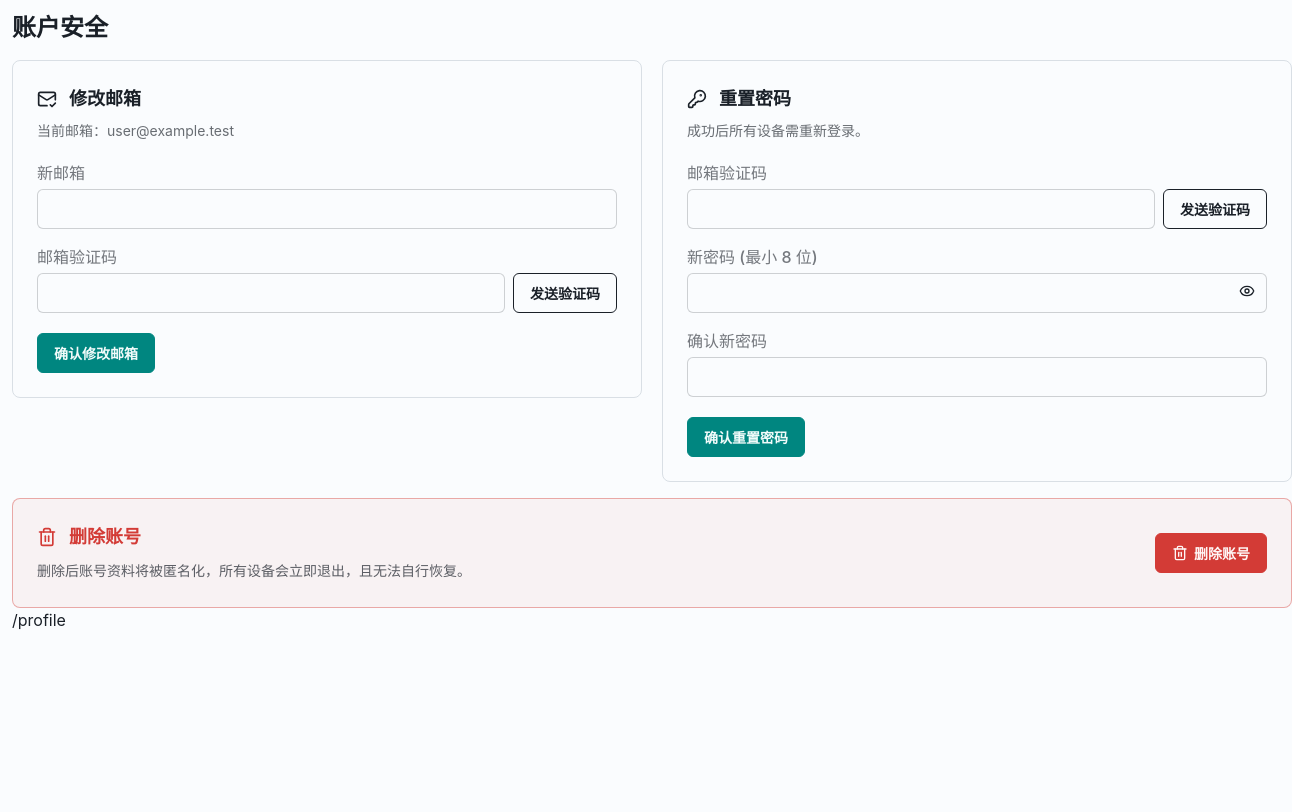
Test: AccountSecurityPanel › sends a new-email code and completes email change
The width and height of the screenshot is (1292, 812).
Type "new@example.test" into the field labelled "新邮箱" at coordinates (327, 209), box top-left (37, 189), bottom-right (617, 229)
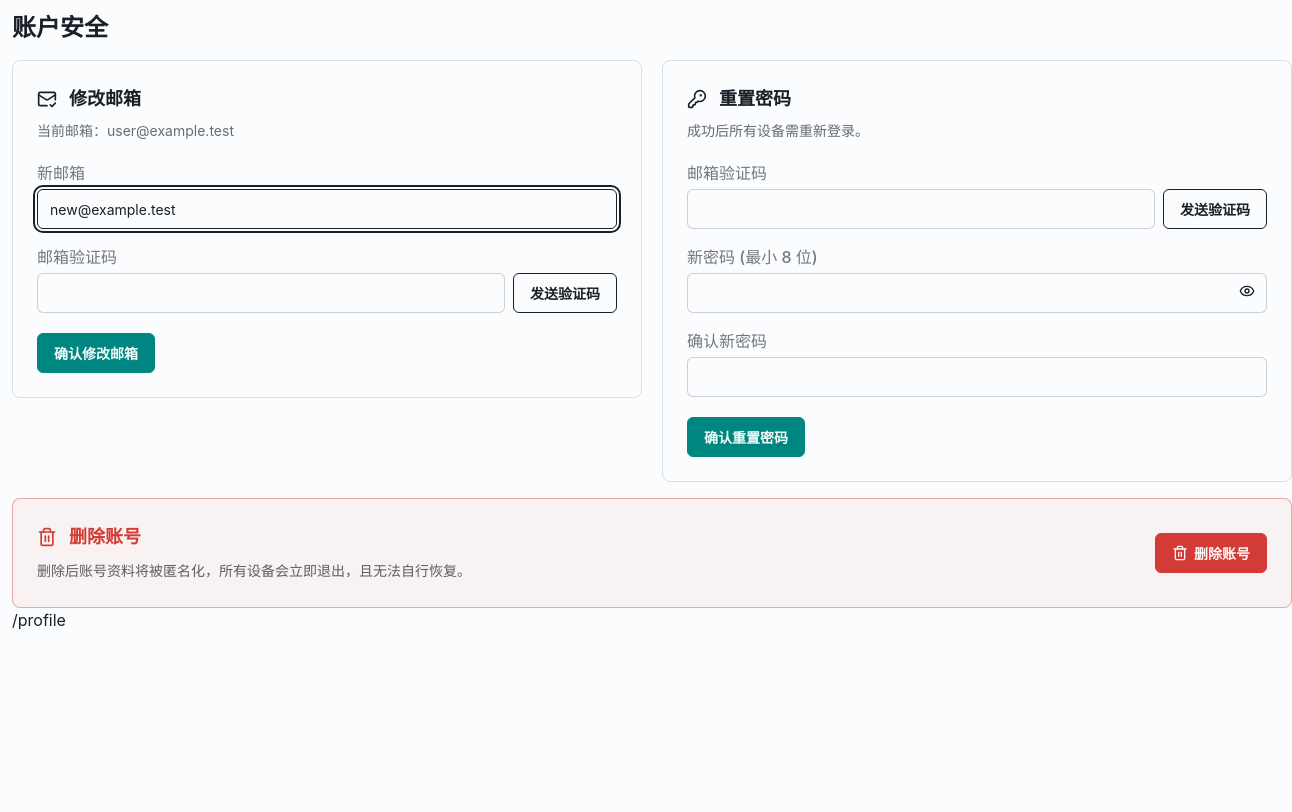
Click the 2nd button "发送验证码" at coordinates (565, 293), box top-left (513, 273), bottom-right (617, 313)
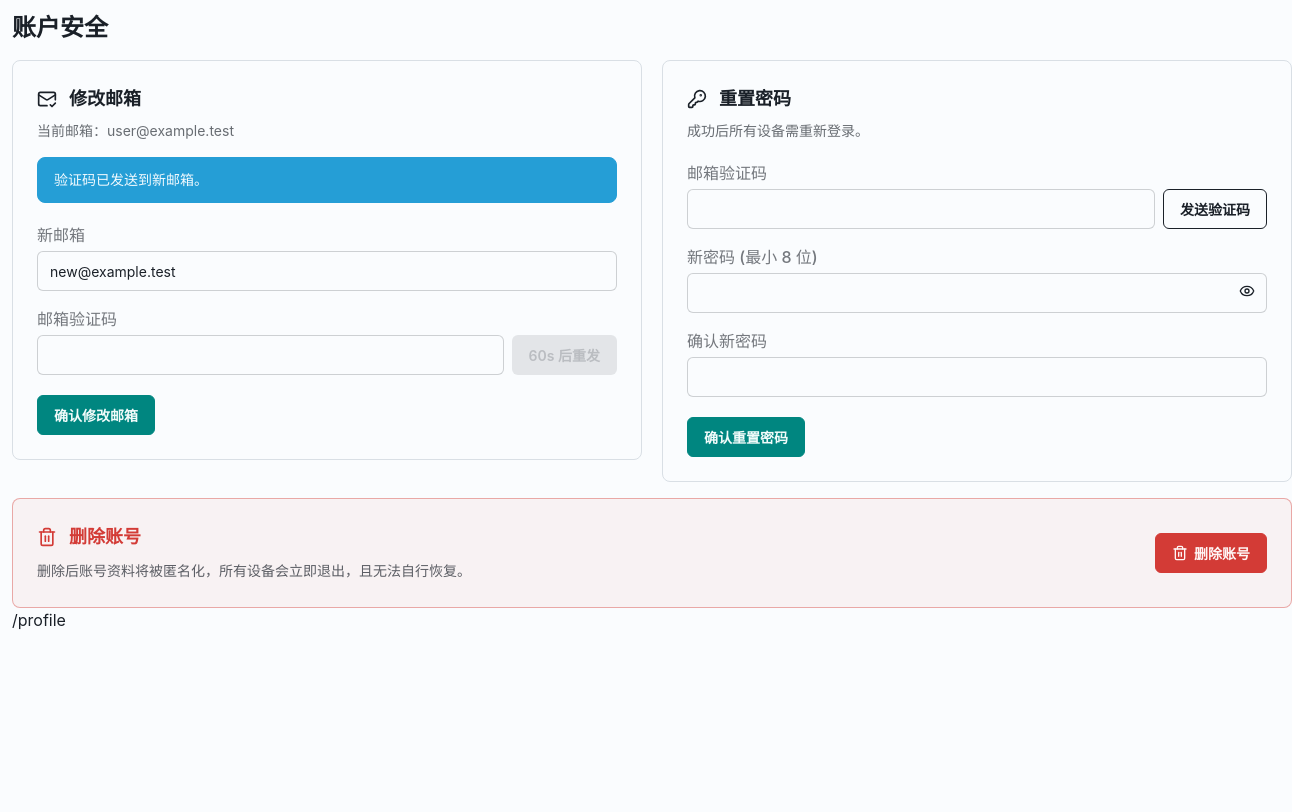
Check: the button "60s 后重发" is disabled, box top-left (512, 335), bottom-right (617, 375)
Type "123456" into the field labelled "邮箱验证码" below "验证码已发送到新邮箱。" at coordinates (270, 355), box top-left (37, 335), bottom-right (504, 375)
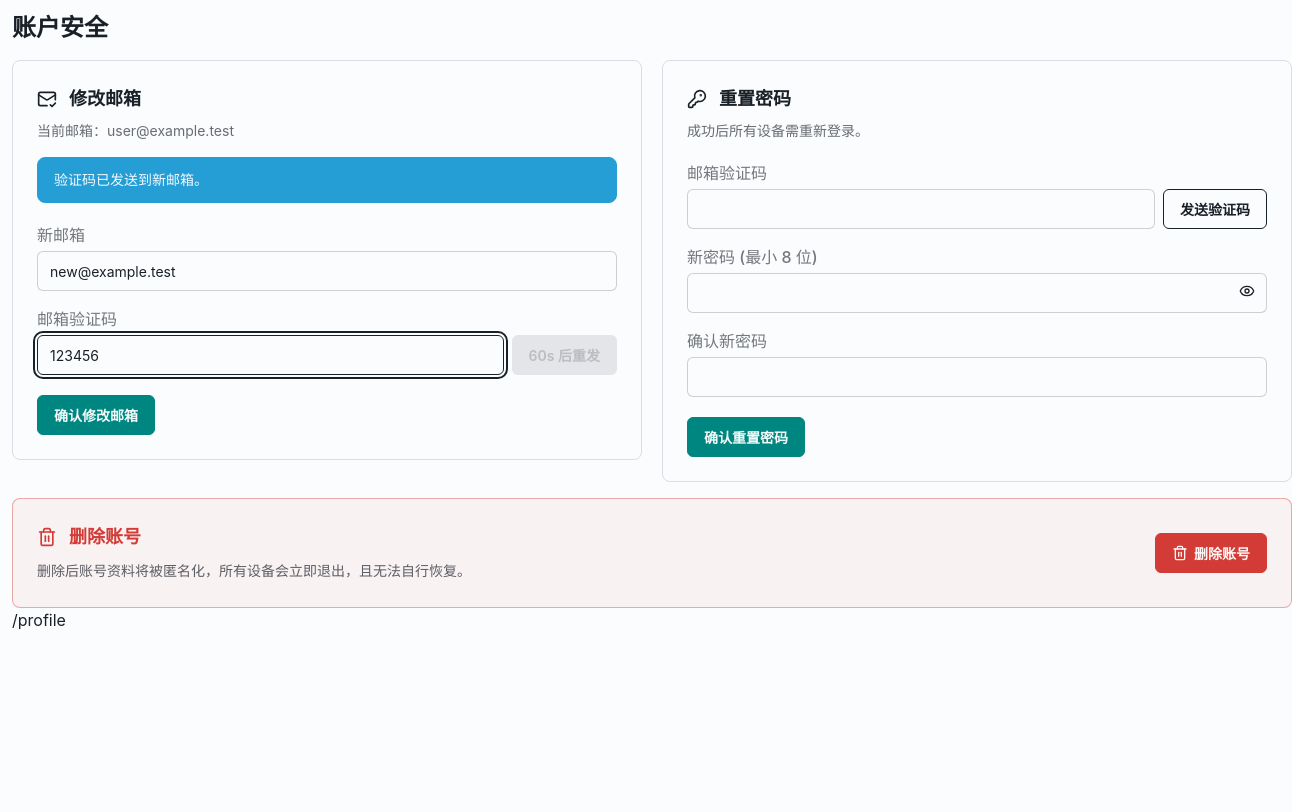
Click the button "确认修改邮箱" at coordinates (96, 415), box top-left (37, 395), bottom-right (155, 435)
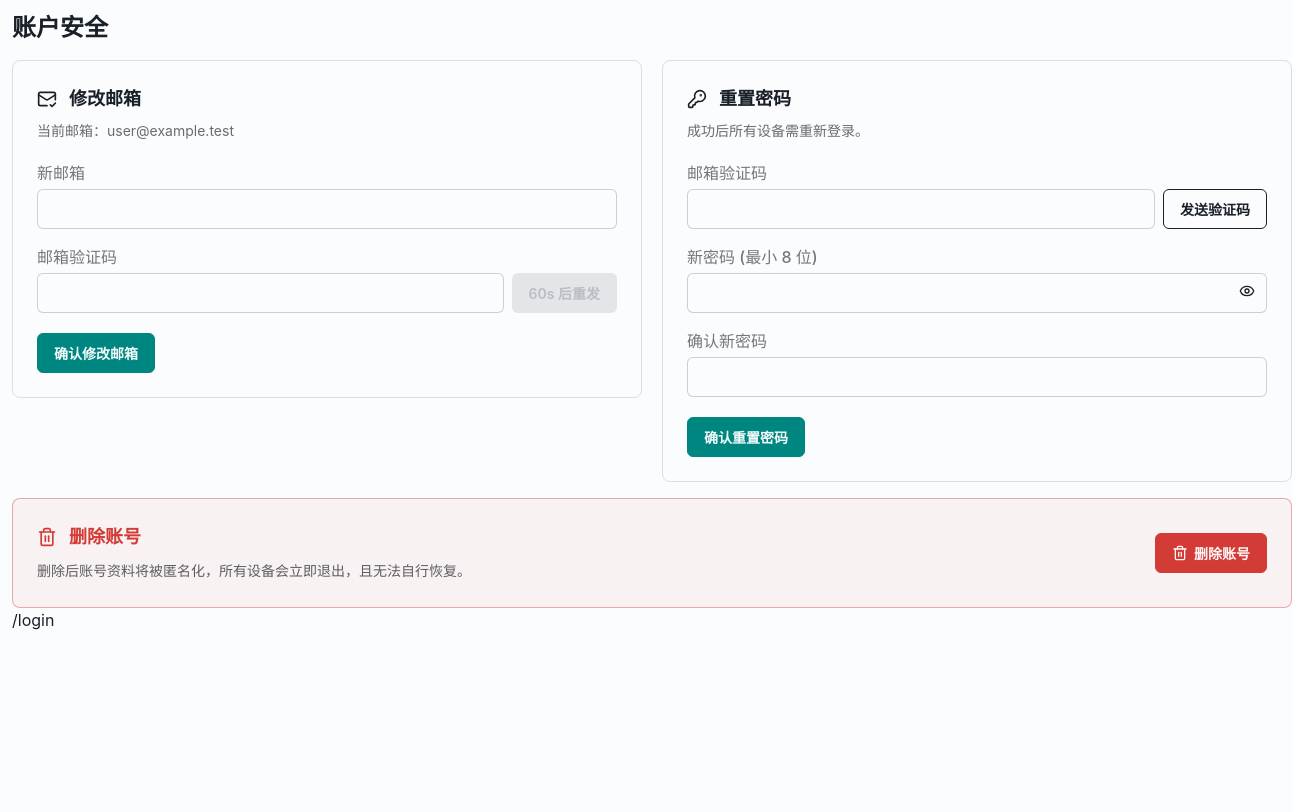
Check: the text "/login" is shown, box top-left (12, 610), bottom-right (54, 630)
